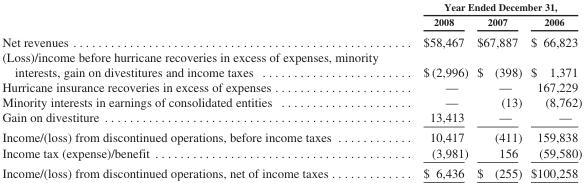table: (1, 0, 581, 179)
table column: (1, 0, 400, 179), (400, 0, 472, 179), (525, 0, 581, 179), (472, 0, 525, 179)
table column header: (1, 0, 581, 30)
table row: (1, 48, 581, 79), (1, 30, 581, 48), (1, 109, 581, 127), (1, 144, 581, 162), (1, 127, 581, 144), (1, 162, 581, 179), (1, 14, 581, 30), (1, 79, 581, 94), (1, 94, 581, 109), (1, 0, 581, 14)
table spanning cell: (400, 0, 581, 14)
